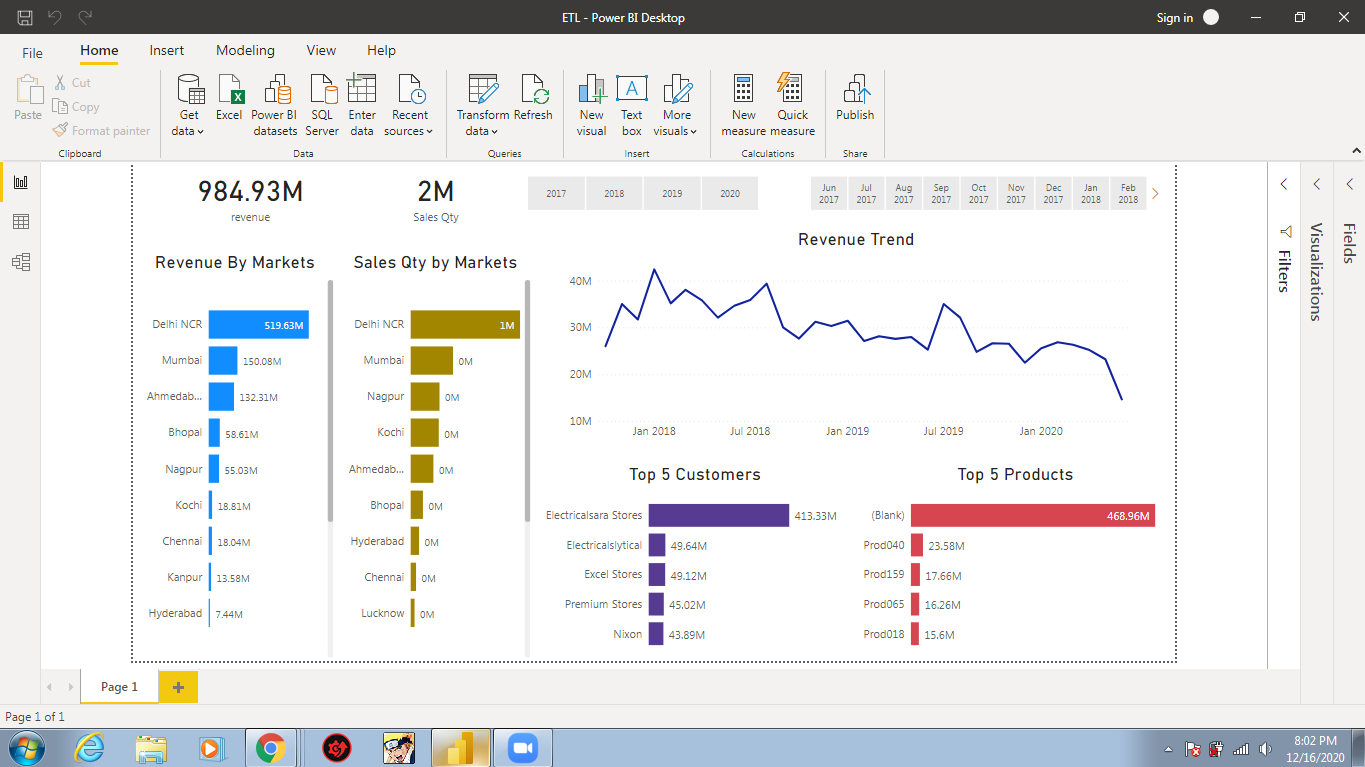

Layout of this report page (visuals, bound fields, positions):
{"tool":"powerbi","page":{"name":"Page 1","canvas":[1504,720],"ordinal":0},"visuals":[{"type":"card","fields":{"Values":["base_measures.revenue"]},"box":[77.9,0,183.2,95.2],"z":0},{"type":"card","fields":{"Values":["base_measures.Sales Qty"]},"box":[352.9,0,166.9,95.2],"z":1000},{"type":"barChart","title":"Revenue By Markets","fields":{"Y":["base_measures.revenue"],"Category":["sales markets.markets_name"]},"box":[0,128.9,294.4,591.6],"z":2000},{"type":"barChart","title":"Sales Qty by Markets","fields":{"Category":["sales markets.markets_name"],"Y":["base_measures.Sales Qty"]},"box":[294.4,128.9,284.1,591.6],"z":3000},{"type":"slicer","fields":{"Values":["sales date.year"]},"box":[544,0,382.4,76.5],"z":4000},{"type":"slicer","fields":{"Values":["sales date.cy_date"]},"box":[952.3,0,533.9,76.5],"z":5000},{"type":"barChart","title":"Top 5 Customers","fields":{"Category":["sales customers.custmer_name"],"Y":["base_measures.revenue"]},"box":[593,424.2,402.6,285.7],"z":6000},{"type":"barChart","title":"Top 5 Products","fields":{"Category":["sales products.product_code"],"Y":["base_measures.revenue"]},"box":[1017.2,424.2,402.6,285.7],"z":7000},{"type":"lineChart","title":"Revenue Trend","fields":{"Y":["base_measures.revenue"],"Category":["sales date.cy_date"]},"box":[624.2,95.4,837.7,313.7],"z":8000}]}

Visuals, with their boxes on the page's 1504x720 design canvas (x1, y1, x2, y2). These are canvas units, not pixel positions in the 1365x767 screenshot, which may show the page scaled, cropped or inside an application window:
card - base_measures.revenue: locate(78, 0, 261, 95)
card - base_measures.Sales Qty: locate(353, 0, 520, 95)
"Revenue By Markets" barChart: locate(0, 129, 294, 720)
"Sales Qty by Markets" barChart: locate(294, 129, 578, 720)
slicer - sales date.year: locate(544, 0, 926, 76)
slicer - sales date.cy_date: locate(952, 0, 1486, 76)
"Top 5 Customers" barChart: locate(593, 424, 996, 710)
"Top 5 Products" barChart: locate(1017, 424, 1420, 710)
"Revenue Trend" lineChart: locate(624, 95, 1462, 409)
